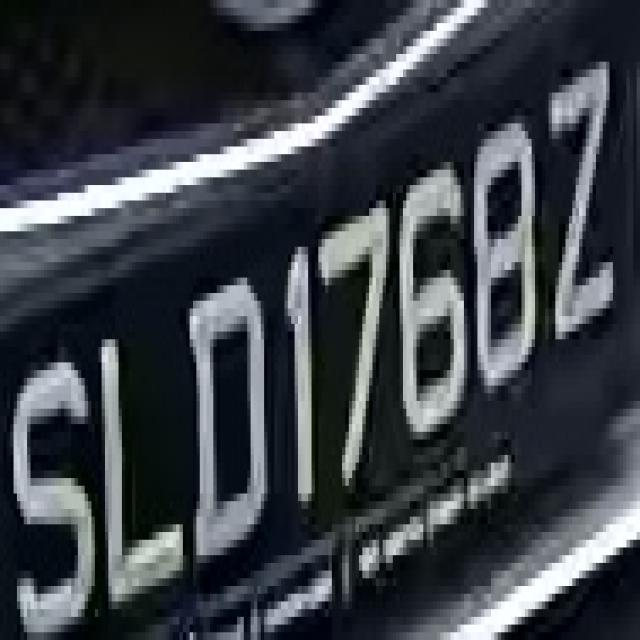1: (278, 224, 322, 555)
6: (389, 123, 474, 478)
7: (295, 185, 396, 517)
8: (461, 131, 548, 409)
D: (176, 270, 271, 570)
L: (102, 293, 196, 601)
S: (10, 301, 98, 632)
Z: (532, 54, 620, 362)
